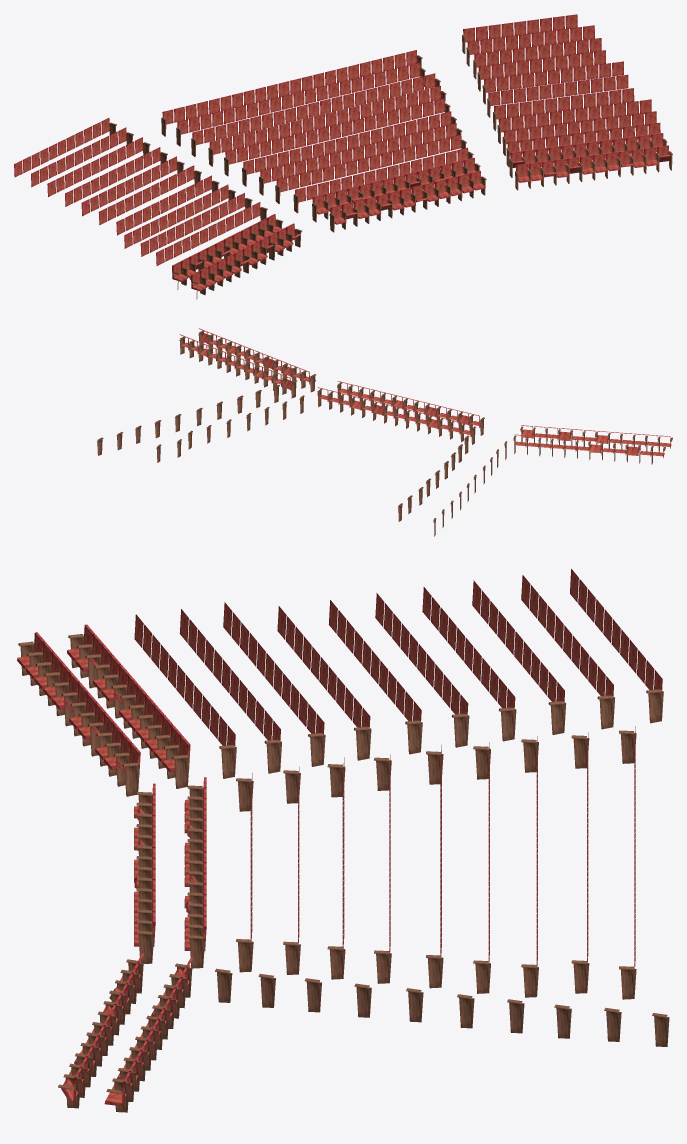
Rendered from TheatreSeats.glb.
3 views of the same model, one above another, from view 1: azimuth 30°, elevation 25°; view 2: azimuth 150°, elevation 25°; view 3: azimuth 270°, elevation 25° (orthographic). The views are drawn at different scales.
Parts seen in each view (by area): view 1: polySurface2297; view 2: polySurface2297; view 3: polySurface2297.
Boxes of the visible parts, x1=… form: polySurface2297: x1=14, y1=14, x2=672, y2=299; polySurface2297: x1=97, y1=328, x2=672, y2=536; polySurface2297: x1=17, y1=569, x2=669, y2=1112.
Size of the model in its own units: 2784 by 177 by 1437.
Materials: 1 (1 with a texture image).
